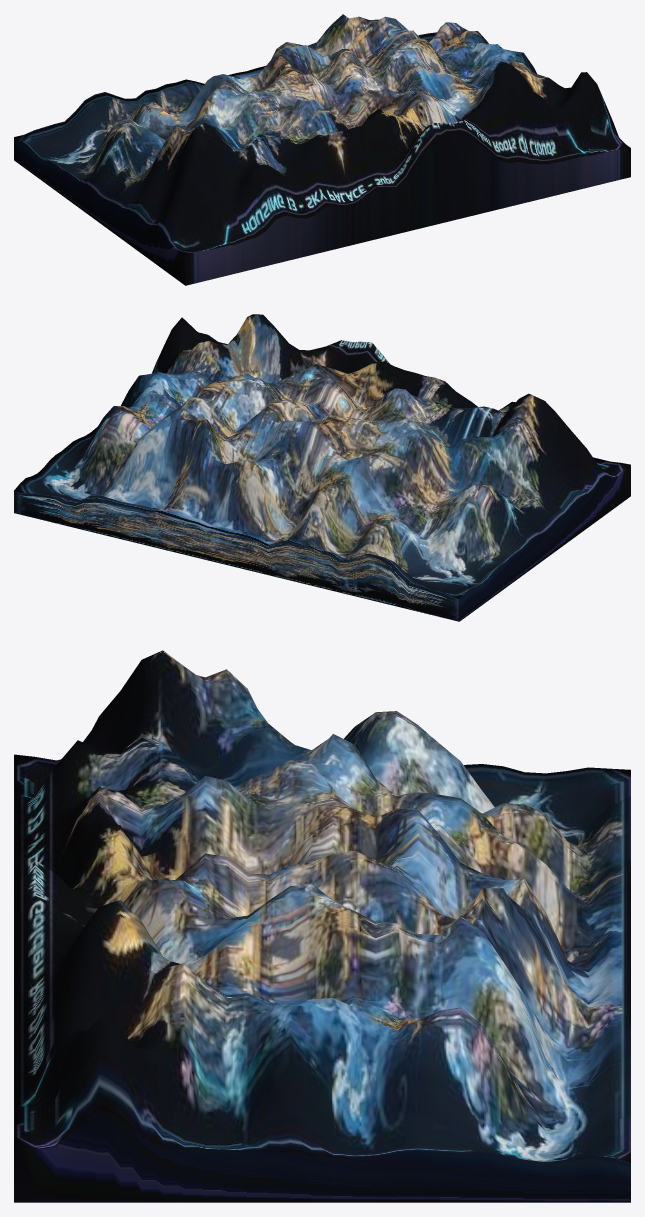
Rendered from HOUSING_13_Sky_Palace.glb.
3 views of the same model, one above another, from view 1: azimuth 30°, elevation 25°; view 2: azimuth 150°, elevation 25°; view 3: azimuth 270°, elevation 25° (orthographic). The views are drawn at different scales.
Parts seen in each view (by area): view 1: HOUSING_13_Sky_Palace; view 2: HOUSING_13_Sky_Palace; view 3: HOUSING_13_Sky_Palace.
Boxes of the visible parts, box(x1,y1,x2,y2) form: HOUSING_13_Sky_Palace: box(14, 14, 630, 285); HOUSING_13_Sky_Palace: box(14, 314, 630, 621); HOUSING_13_Sky_Palace: box(14, 650, 630, 1202).
Bounding box in the file's own units: 2 × 0.51 × 1.33.
1 material, 1 textured.
